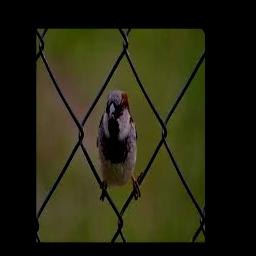Sparrow: (97, 90, 138, 189)
